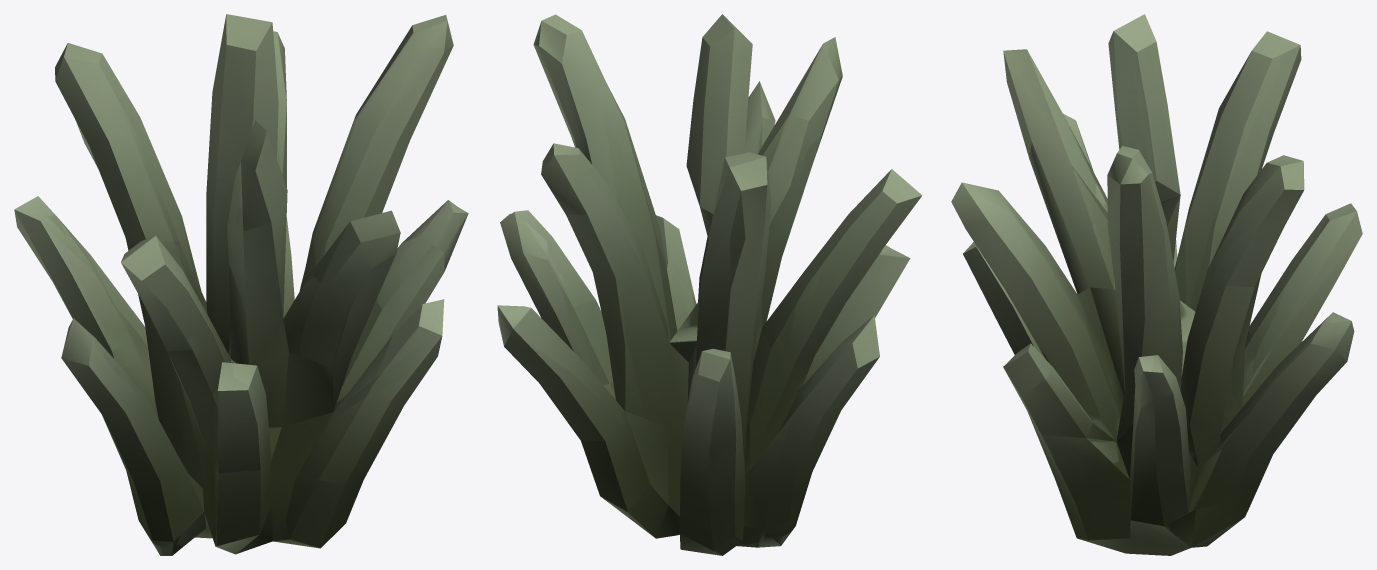
Rendered from wh-grass-tuft.glb.
3 renders of one model, left to right at view 1: azimuth 30°, elevation 25°; view 2: azimuth 150°, elevation 25°; view 3: azimuth 270°, elevation 25°, orthographic. The views are drawn at different scales.
Bounding box in the file's own units: 1.46 × 1.86 × 1.36.
Materials: 1 (1 with a texture image).
